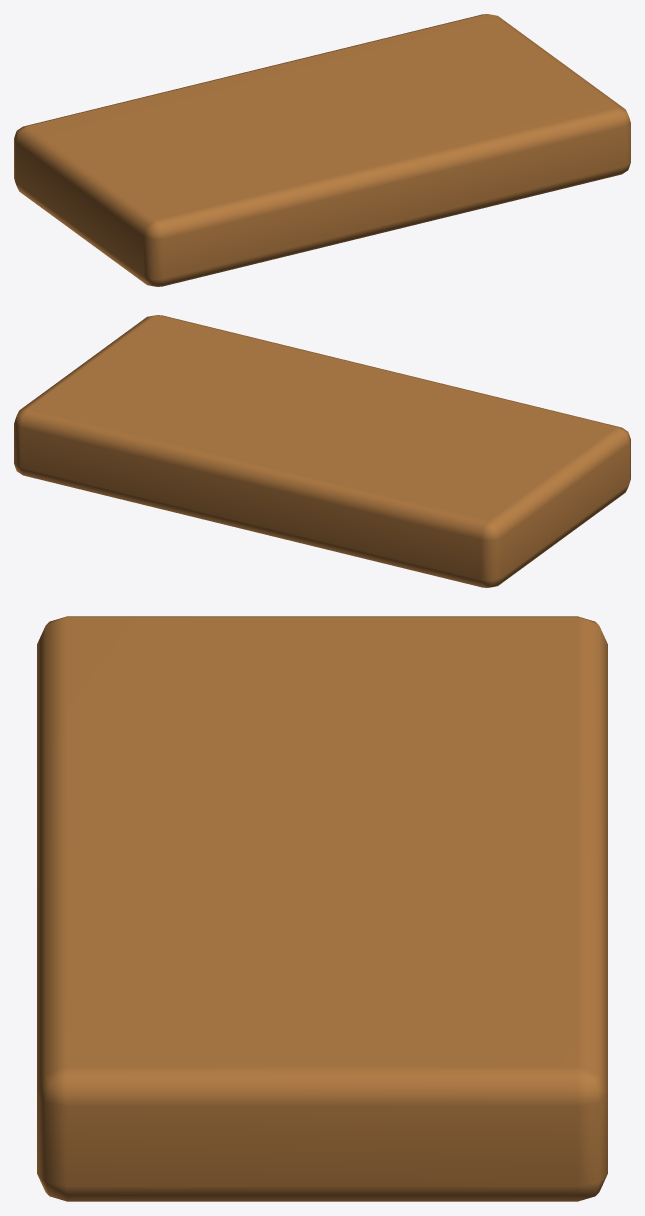
File: SM_plank_floor_S.fbx
3 views of the same model, one above another, from view 1: azimuth 30°, elevation 25°; view 2: azimuth 150°, elevation 25°; view 3: azimuth 270°, elevation 25° (orthographic). The views are drawn at different scales.
Visible parts, largest first — view 1: SM_plank_floor_S; view 2: SM_plank_floor_S; view 3: SM_plank_floor_S.
Boxes of the visible parts, bbox=[...] form: SM_plank_floor_S: bbox=[14, 14, 630, 286]; SM_plank_floor_S: bbox=[14, 315, 630, 587]; SM_plank_floor_S: bbox=[37, 616, 607, 1201].
Bounding box in the file's own units: 74.8 × 9.84 × 38.05.
1 material, 1 textured.
